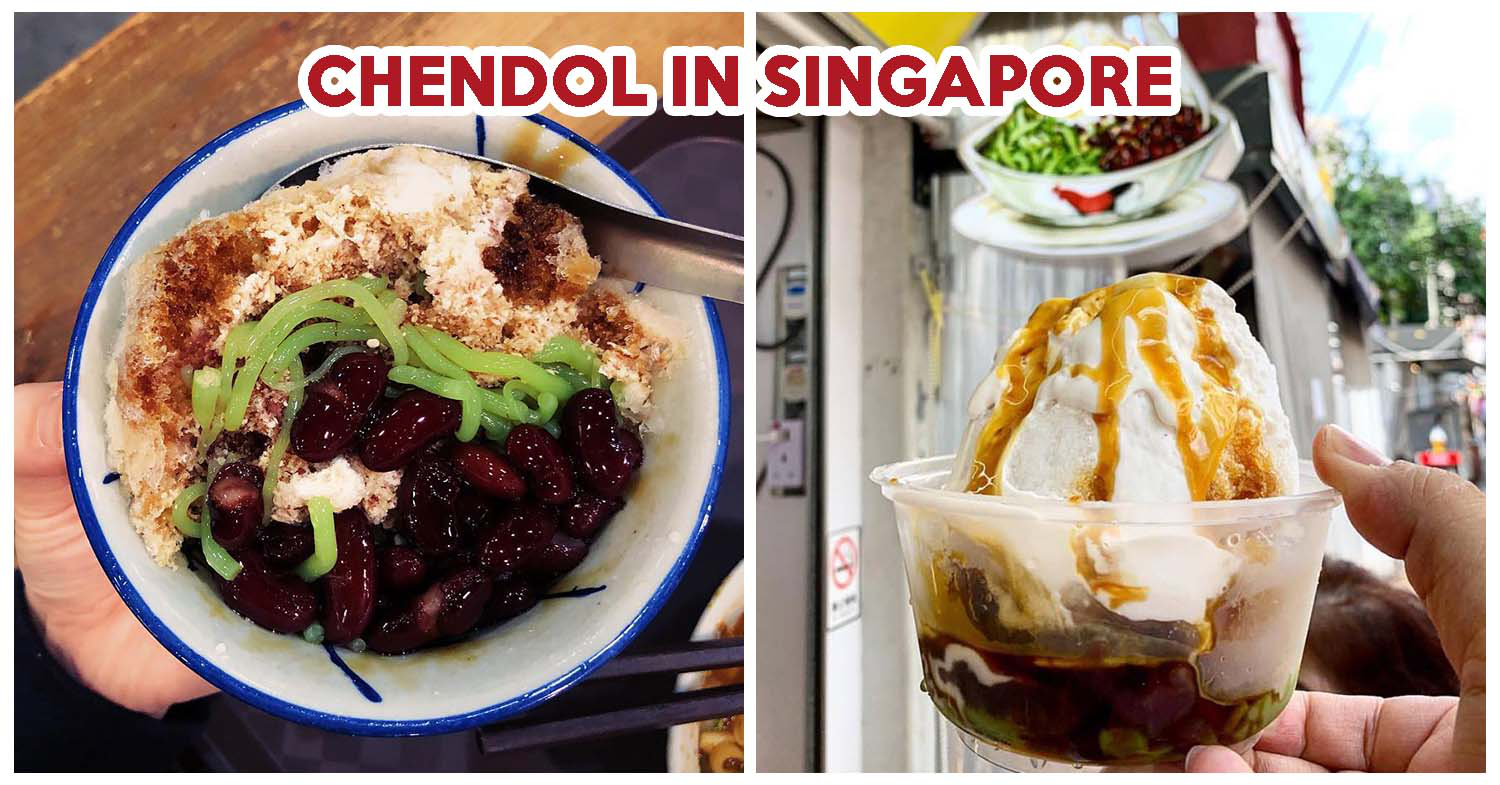Chendol: (111, 123, 683, 661), (896, 255, 1345, 749)
